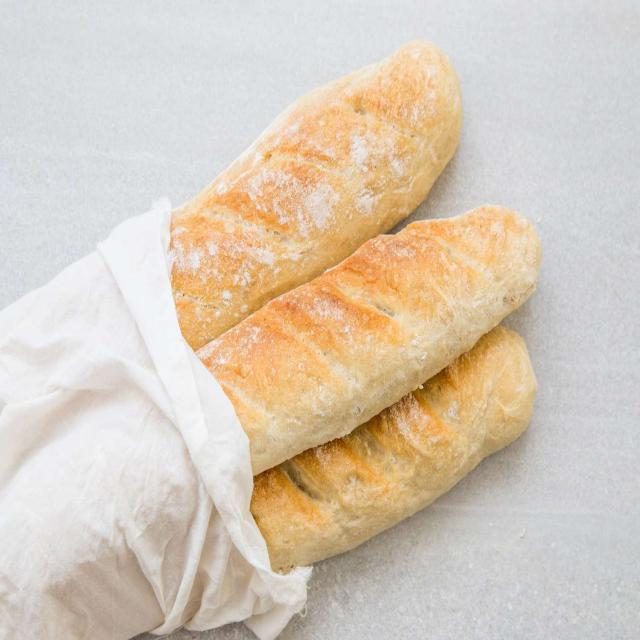Baguette: (196, 207, 541, 474), (170, 42, 462, 349), (251, 326, 536, 573)
